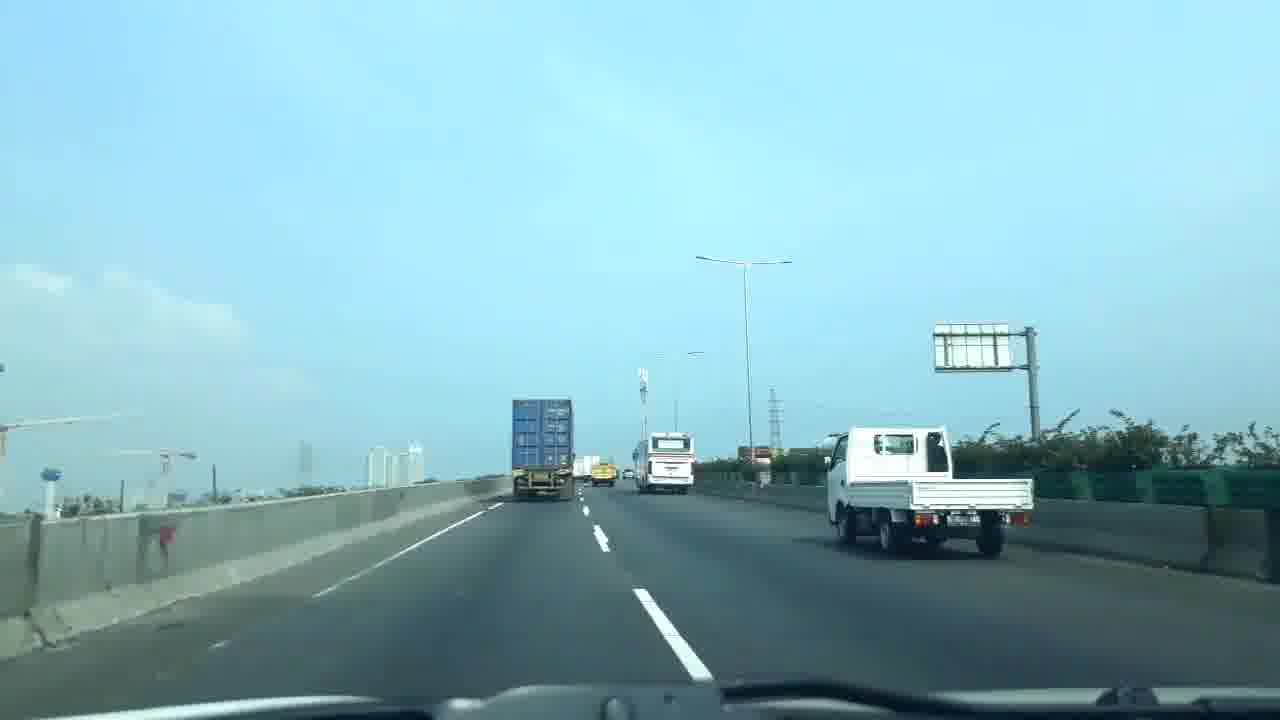plate_positive: (946, 514, 982, 527)
